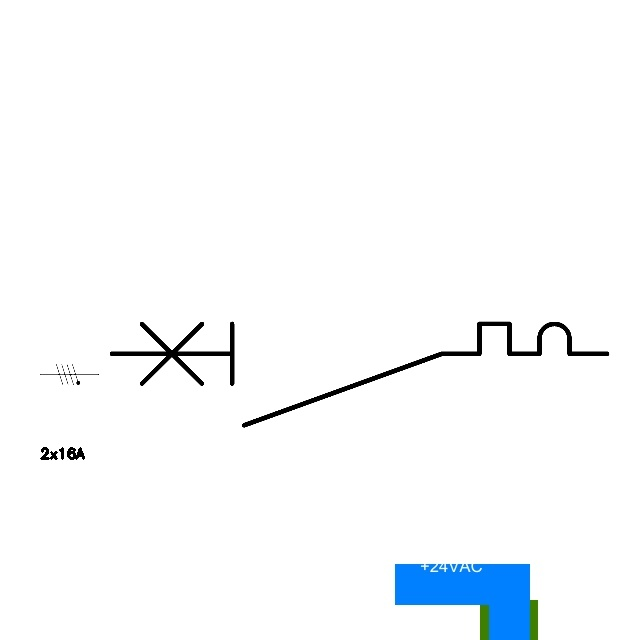interruptor_termomagnetico: (98, 311, 619, 438)
